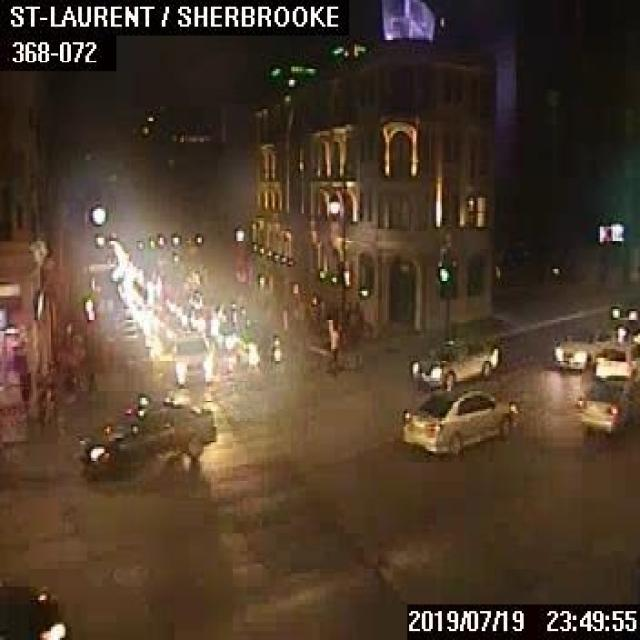pedestrian: (40, 371, 56, 424)
vehicle: (76, 393, 214, 482), (402, 388, 518, 453), (406, 336, 497, 386), (0, 582, 71, 638), (579, 375, 638, 433), (550, 326, 612, 369), (173, 333, 212, 384), (234, 324, 280, 365), (592, 341, 638, 380)
